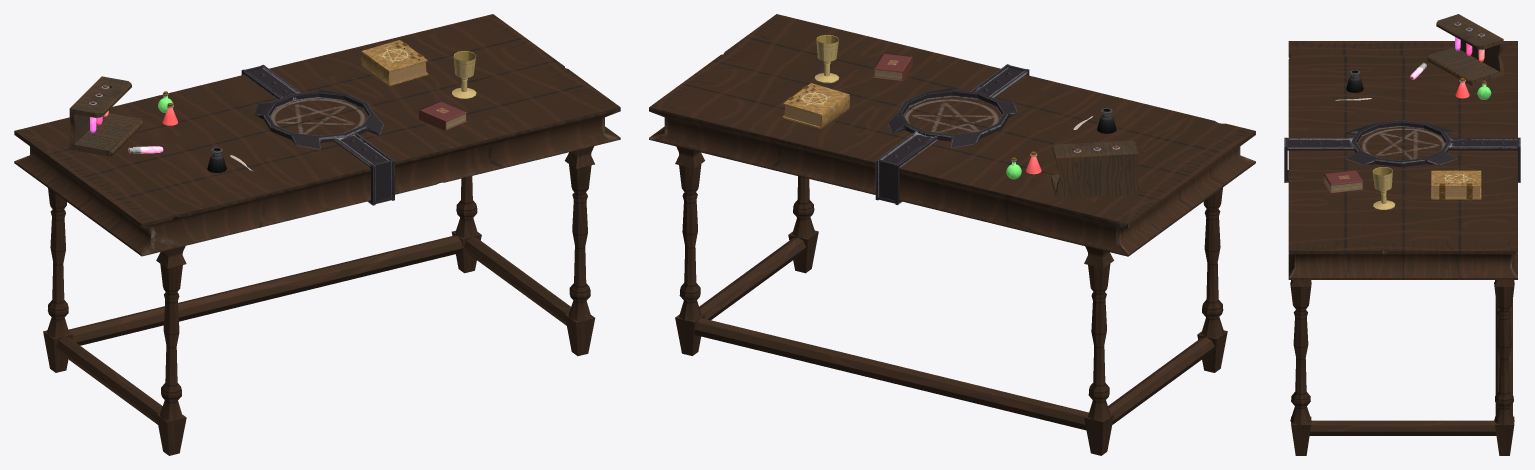
Rendered from Table.fbx.
The picture shows the model from 3 angles, left to right: view 1: azimuth 30°, elevation 25°; view 2: azimuth 150°, elevation 25°; view 3: azimuth 270°, elevation 25°; orthographic projection. The views are drawn at different scales.
Parts seen in each view (by area): view 1: polySurface89, polySurface39, pCube23, pCube19, Book_1, Goblet_1; view 2: polySurface89, polySurface39, pCube23, pCube19, Book_1, Goblet_1; view 3: polySurface89, polySurface39, pCube23, pCube19, Book_1, Goblet_1, pCylinder9.
Boxes of the visible parts, box(x1,y1,x2,y2) form: polySurface89: box(14, 14, 620, 455); polySurface39: box(241, 64, 394, 205); pCube23: box(69, 76, 142, 156); pCube19: box(360, 40, 428, 85); Book_1: box(419, 101, 467, 130); Goblet_1: box(451, 51, 476, 98); polySurface89: box(649, 14, 1255, 455); polySurface39: box(875, 64, 1029, 205); pCube23: box(1051, 140, 1138, 198); pCube19: box(782, 83, 850, 129); Book_1: box(873, 53, 912, 81); Goblet_1: box(814, 35, 839, 83); polySurface89: box(1288, 41, 1517, 455); polySurface39: box(1284, 120, 1520, 182); pCube23: box(1427, 14, 1503, 85); pCube19: box(1431, 170, 1481, 200); Book_1: box(1323, 170, 1363, 193); Goblet_1: box(1372, 167, 1395, 210); pCylinder9: box(1346, 70, 1363, 92).
Bounding box in the file's own units: 5553 × 3154 × 2640.
